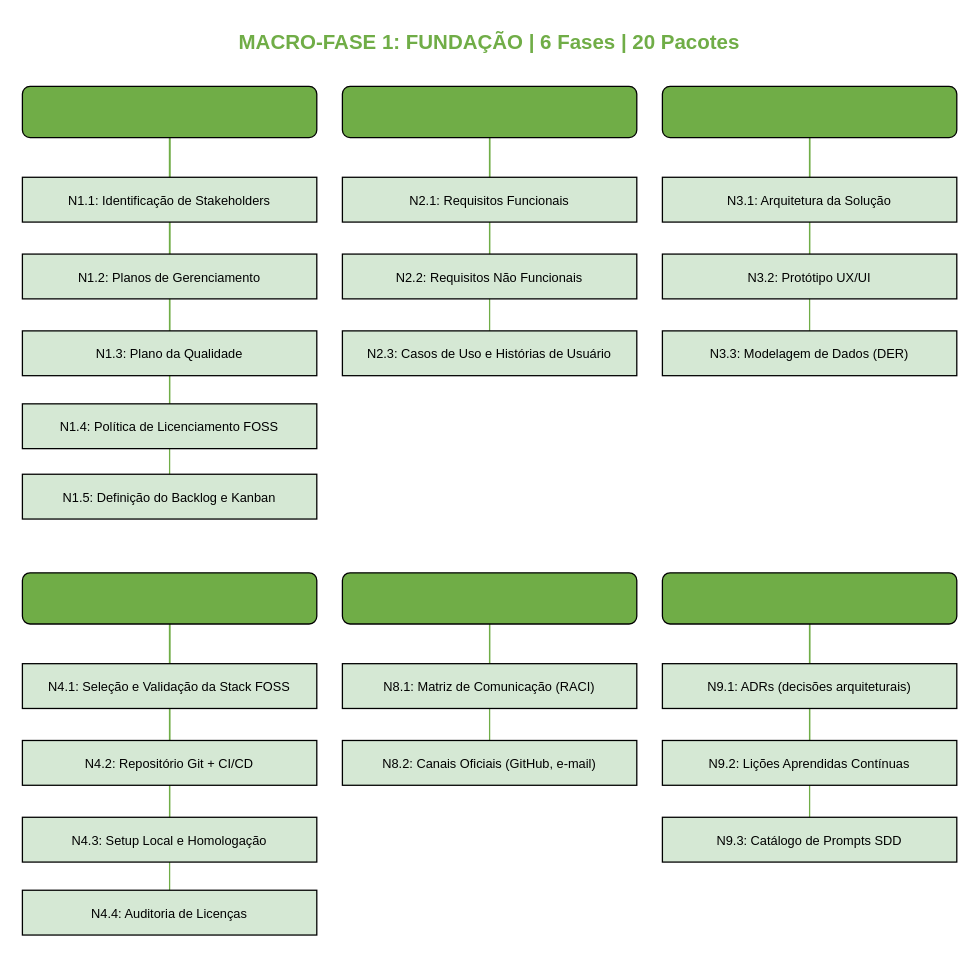
Some shapes in this 979 by 957 pixel diagram are drawn without their labels. Here are the shapes that lost their labels. From the top down, the centre of each, then its label:
At (169,111): "N1: Iniciação e Planejamento".
At (489,111): "N2: Levantamento de Requisitos".
At (809,111): "N3: Modelagem e Prototipação".
At (169,598): "N4: Configuração de Ambiente".
At (489,598): "N8: Comunicação".
At (809,598): "N9: Base de Conhecimento".
